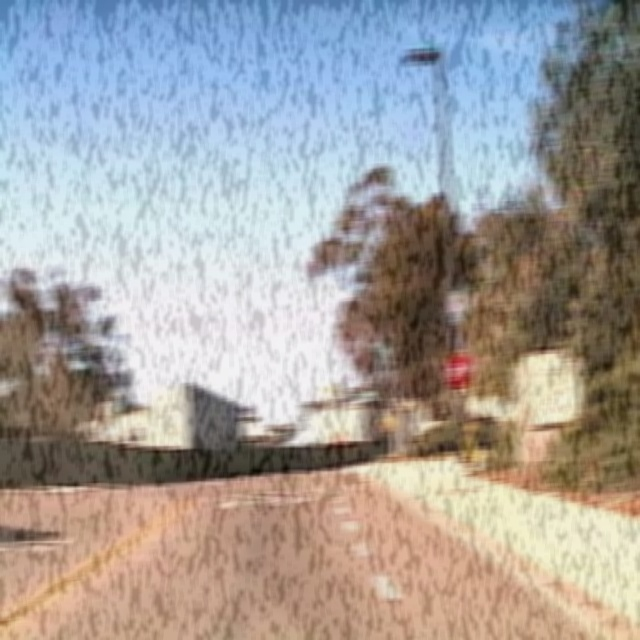stop: (444, 352, 474, 391)
